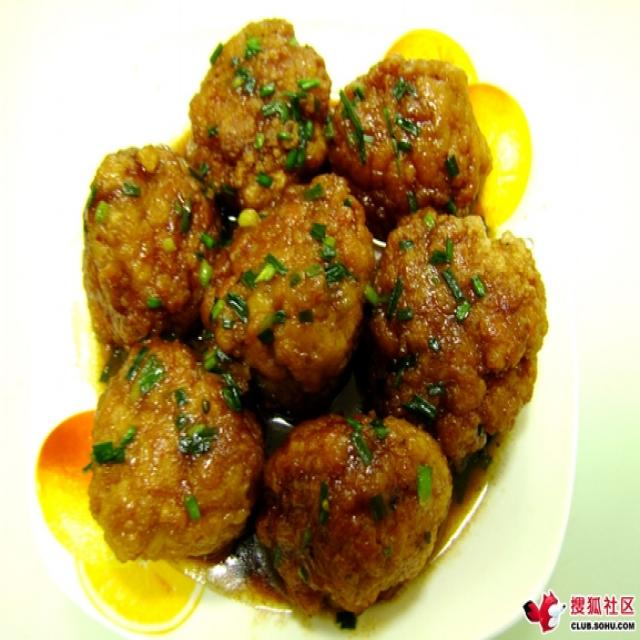meatball: (192, 168, 379, 416), (75, 330, 268, 570), (364, 216, 553, 457), (251, 403, 456, 621), (332, 43, 494, 232), (70, 140, 217, 342), (180, 13, 332, 191)
